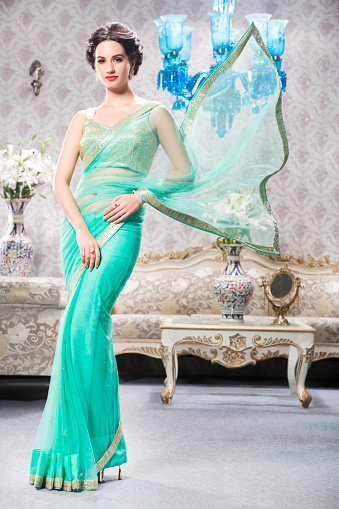em pe: (38, 21, 226, 419)
